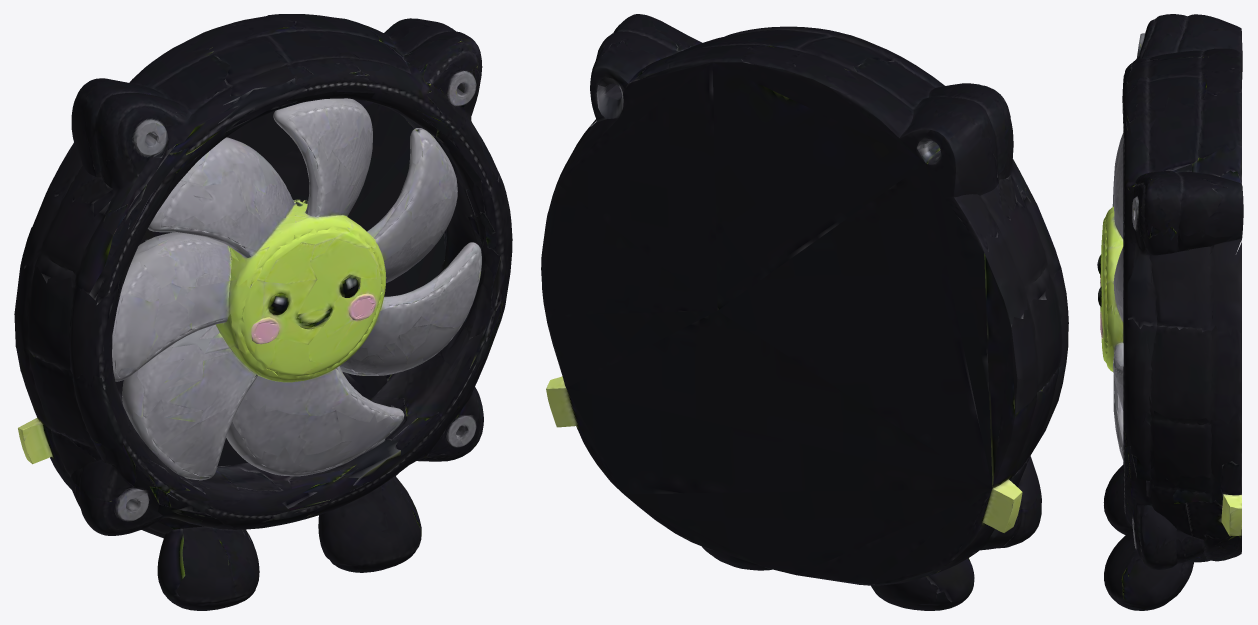
Rendered from fan.gen.glb.
3 renders of one model, left to right at view 1: azimuth 30°, elevation 25°; view 2: azimuth 150°, elevation 25°; view 3: azimuth 270°, elevation 25°, orthographic. The views are drawn at different scales.
Visible parts, largest first — view 1: LOD0; view 2: LOD0; view 3: LOD0.
Boxes of the visible parts, box(x1,y1,x2,y2) form: LOD0: box(14, 14, 512, 610); LOD0: box(541, 14, 1068, 610); LOD0: box(1097, 14, 1243, 610).
Size of what is drawn, in the model's own units: 0.1835 by 0.2 by 0.054.
Materials: 1 (1 with a texture image).
